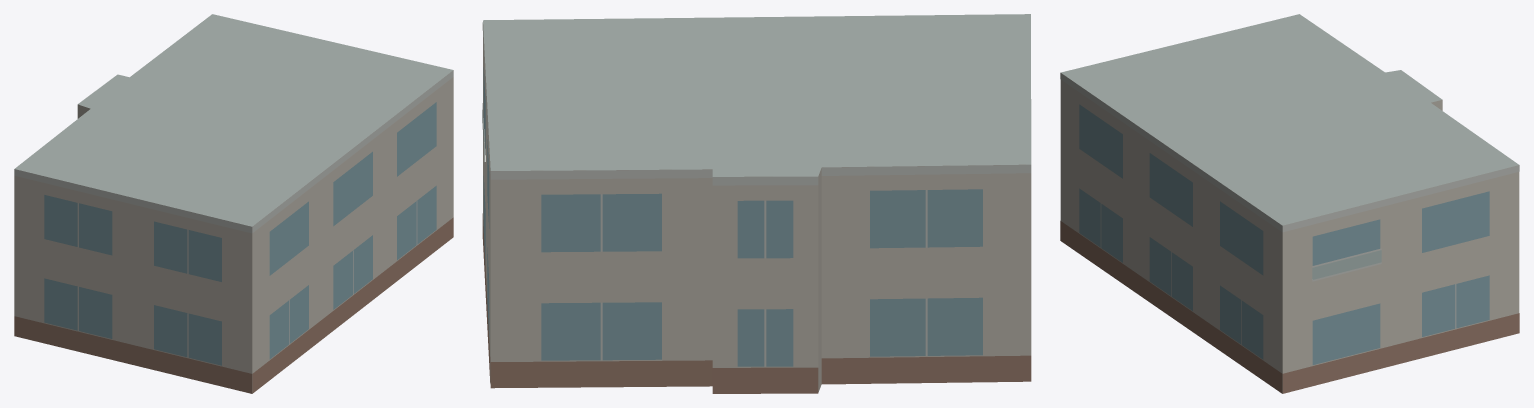
The model's file is survey-upis-32619525.glb.
3 views of the same model, side by side, from view 1: azimuth 30°, elevation 25°; view 2: azimuth 150°, elevation 25°; view 3: azimuth 270°, elevation 25° (orthographic). The views are drawn at different scales.
Parts seen in each view (by area): view 1: survey-upis-32619525.tmp; view 2: survey-upis-32619525.tmp; view 3: survey-upis-32619525.tmp.
Part boxes in pixels (x1,y1,x2,y2): survey-upis-32619525.tmp: (14,14,453,393); survey-upis-32619525.tmp: (482,14,1031,393); survey-upis-32619525.tmp: (1060,14,1519,393).
Bounding box in the file's own units: 16.47 × 6.1 × 15.09.
